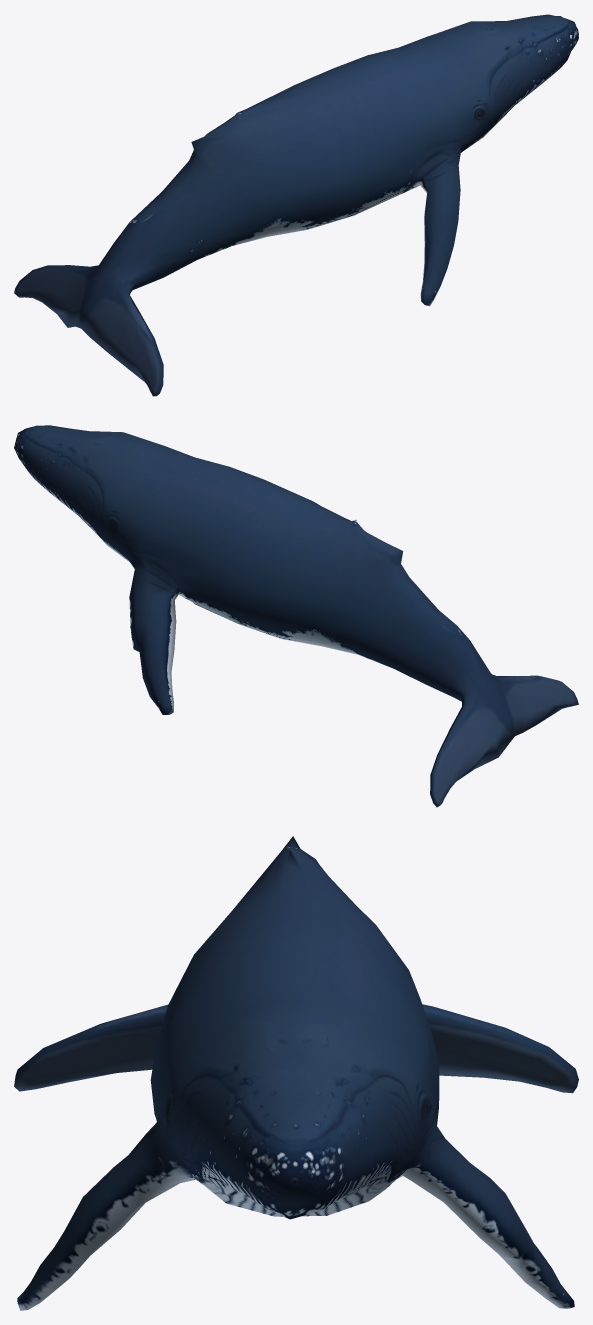
File: humpback.glb
3 renders of one model, top to bottom at view 1: azimuth 30°, elevation 25°; view 2: azimuth 150°, elevation 25°; view 3: azimuth 270°, elevation 25°, orthographic. The views are drawn at different scales.
Parts seen in each view (by area): view 1: tripo_node_fe0fb953; view 2: tripo_node_fe0fb953; view 3: tripo_node_fe0fb953.
Boxes of the visible parts, x1,y1,x2,y2 form: tripo_node_fe0fb953: (14,14,578,396); tripo_node_fe0fb953: (14,425,578,807); tripo_node_fe0fb953: (14,836,578,1310).
Bounding box in the file's own units: 97.36 × 42.06 × 48.
1 material, 1 textured.
